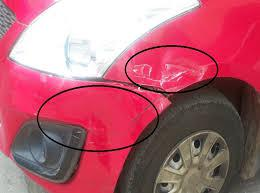fender-dent: (105, 21, 259, 118)
front-bumper-dent: (0, 75, 173, 192)
